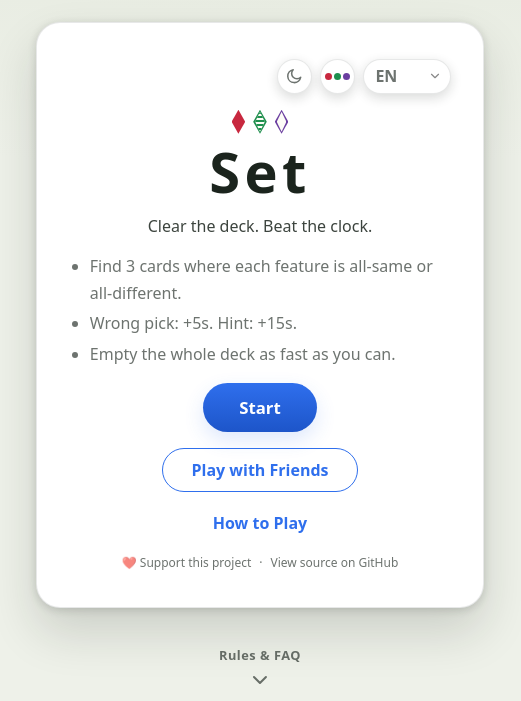
switches to multiplayer mode without crashing (hooks-order regression)
Click the button "Play with Friends".
click(260, 470)  # box [162,448,358,492]
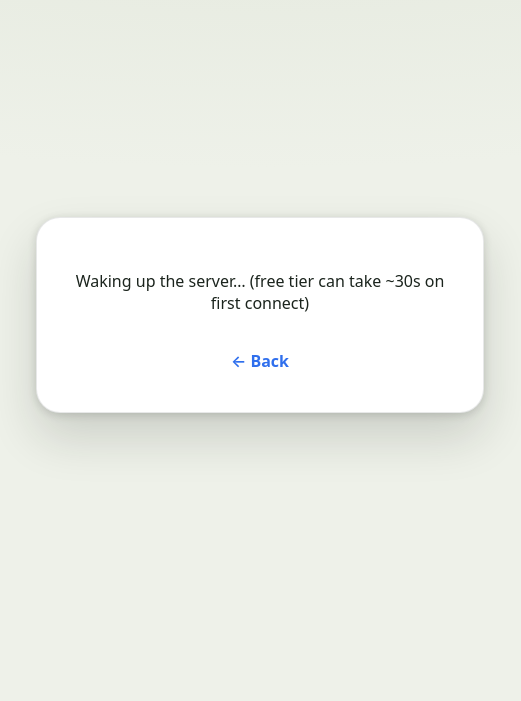
Expected: the text "Waking up the server" is shown, [76,270,444,314]
